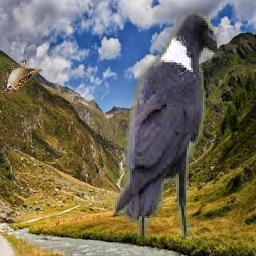Crow: (113, 9, 217, 237)
Sparrow: (4, 60, 43, 94)
